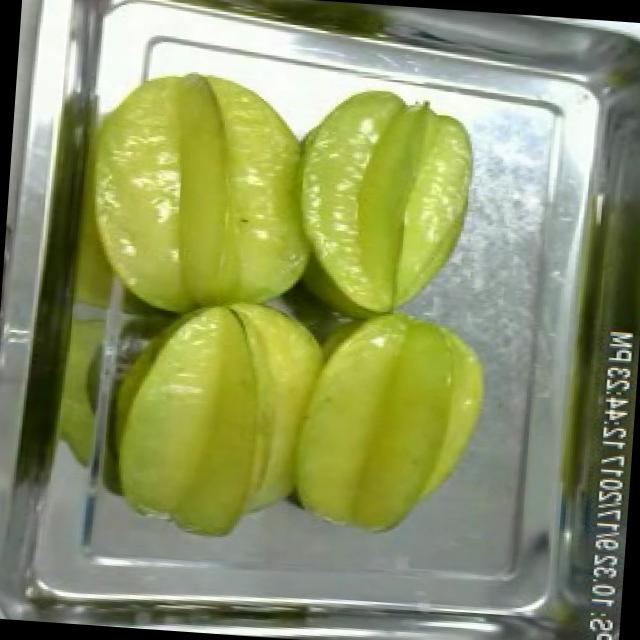fruit: (51, 48, 343, 344), (91, 278, 349, 558), (280, 290, 500, 550), (273, 70, 491, 332)
